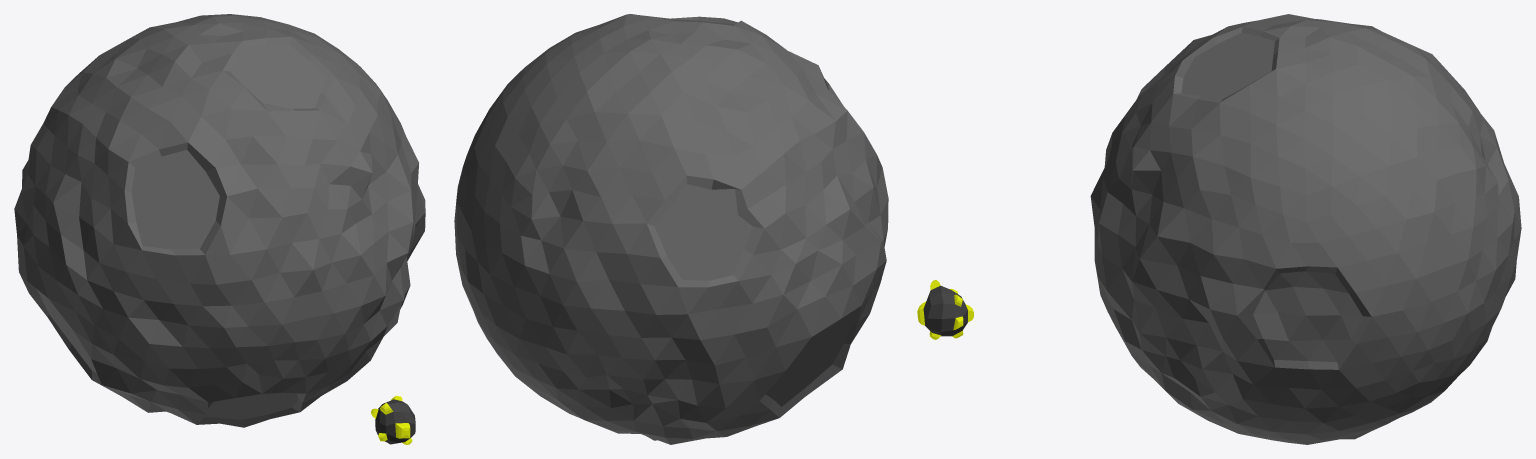
File: models.glb
The picture shows the model from 3 angles, left to right: view 1: azimuth 30°, elevation 25°; view 2: azimuth 150°, elevation 25°; view 3: azimuth 270°, elevation 25°; orthographic projection. The views are drawn at different scales.
Visible parts, largest first — view 1: moon, golden_meteor; view 2: moon; view 3: moon, golden_meteor.
Part boxes in pixels (x1,y1,x2,y2): moon: (14, 14, 425, 427); golden_meteor: (371, 395, 415, 444); moon: (454, 14, 888, 444); moon: (1090, 14, 1521, 444); golden_meteor: (917, 280, 973, 339).
Bounding box in the file's own units: 31.65 × 31.68 × 44.24.
Materials: 1 (1 with a texture image).
